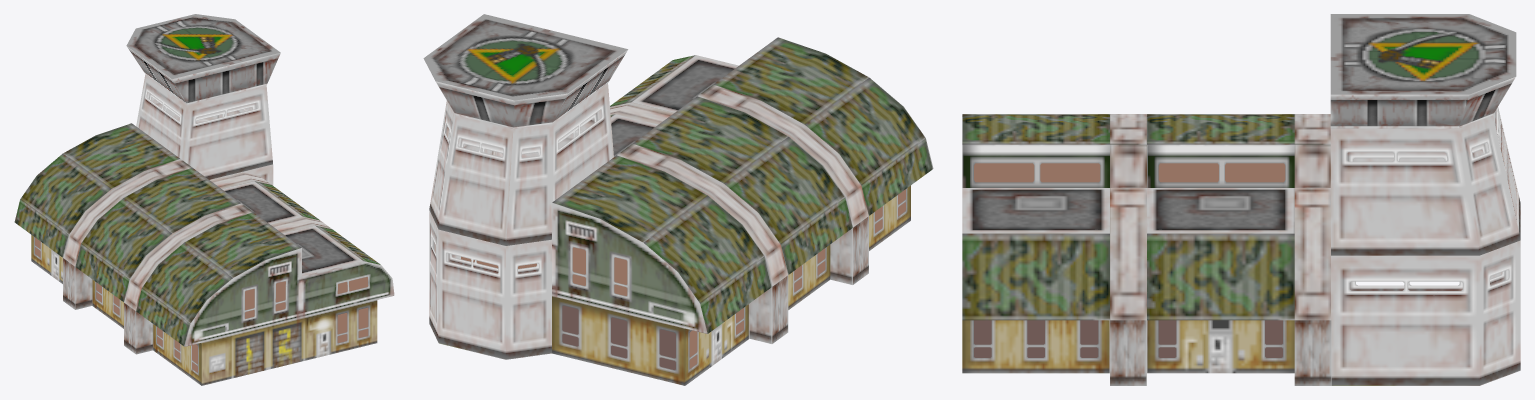
3 views of the same model, side by side, from view 1: azimuth 30°, elevation 25°; view 2: azimuth 150°, elevation 25°; view 3: azimuth 270°, elevation 25° (orthographic). The views are drawn at different scales.
Parts seen in each view (by area): view 1: L_SensorControl, LITWIN_SensorCon; view 2: L_SensorControl, LITWIN_SensorCon; view 3: L_SensorControl, LITWIN_SensorCon.
Part boxes in pixels (x1=…): L_SensorControl: x1=14, y1=14, x2=394, y2=385; LITWIN_SensorCon: x1=35, y1=92, x2=368, y2=372; L_SensorControl: x1=423, y1=14, x2=933, y2=385; LITWIN_SensorCon: x1=446, y1=110, x2=905, y2=369; L_SensorControl: x1=962, y1=14, x2=1520, y2=385; LITWIN_SensorCon: x1=974, y1=143, x2=1508, y2=357.
Size of the model in its own units: 20.65 by 17.75 by 30.23.
Materials: 2 (2 with a texture image).
